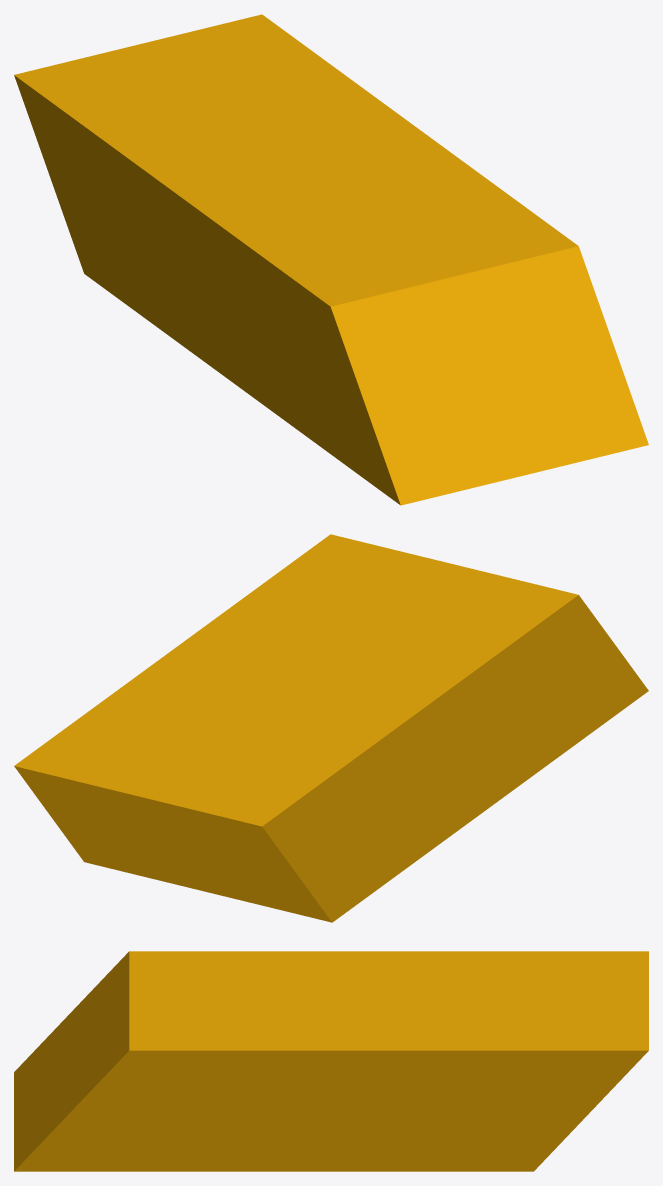
File: gold.fbx
The picture shows the model from 3 angles, top to bottom: view 1: azimuth 30°, elevation 25°; view 2: azimuth 150°, elevation 25°; view 3: azimuth 270°, elevation 25°; orthographic projection. The views are drawn at different scales.
Visible parts, largest first — view 1: Cube; view 2: Cube; view 3: Cube.
Part boxes in pixels (box(x1,y1,x2,y2)): Cube: box(14, 14, 648, 505); Cube: box(14, 534, 648, 922); Cube: box(14, 951, 648, 1171).
Bounding box in the file's own units: 177 × 100 × 477.
